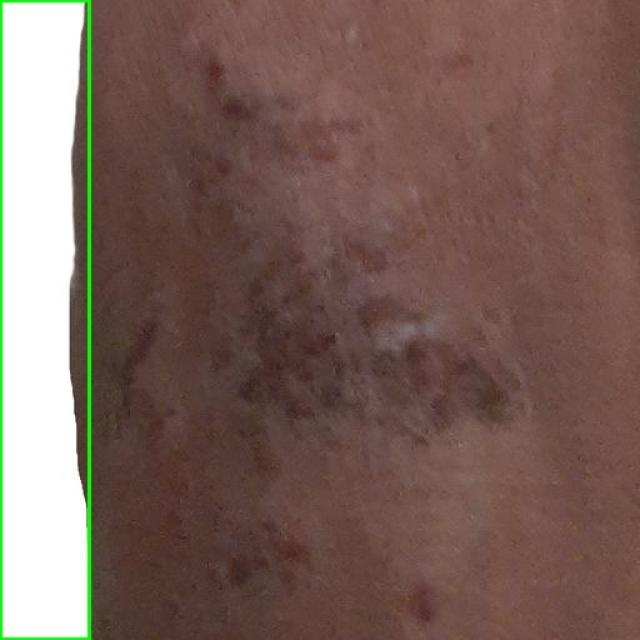Contact Dermatitis: (0, 0, 89, 639)
